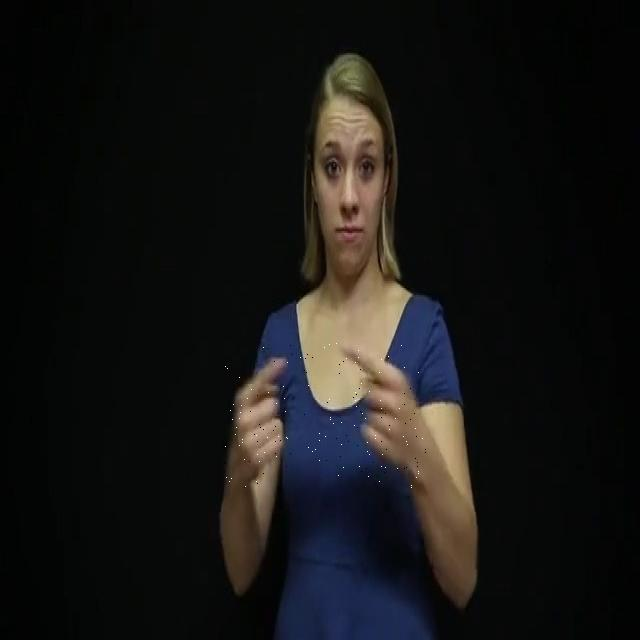allergy: (223, 342, 428, 488)
